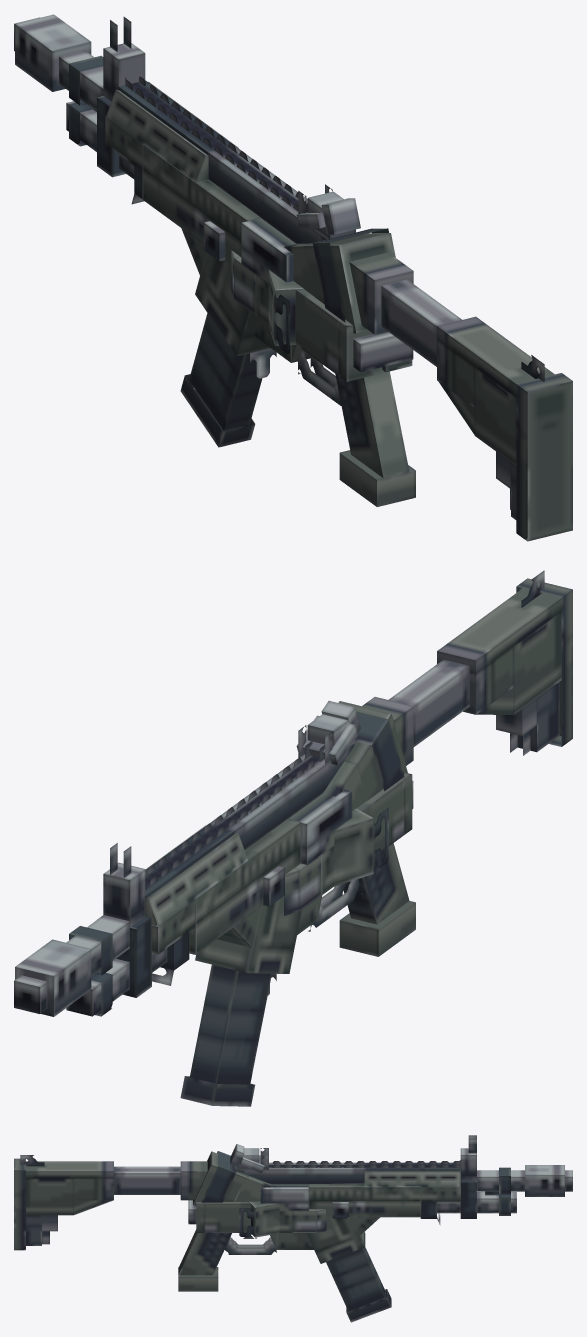
File: rifle.dae
3 renders of one model, top to bottom at view 1: azimuth 30°, elevation 25°; view 2: azimuth 150°, elevation 25°; view 3: azimuth 270°, elevation 25°, orthographic. The views are drawn at different scales.
Parts seen in each view (by area): view 1: cube (×35); view 2: cube (×37); view 3: cube (×42).
Boxes of the visible parts, x1,y1,x2,y2 form: cube (×35): [14, 14, 572, 541]; cube (×37): [14, 578, 572, 1106]; cube (×42): [14, 1148, 572, 1322].
Size of the model in its own units: 0.4749 by 1.56 by 4.36.
Materials: 1 (1 with a texture image).
